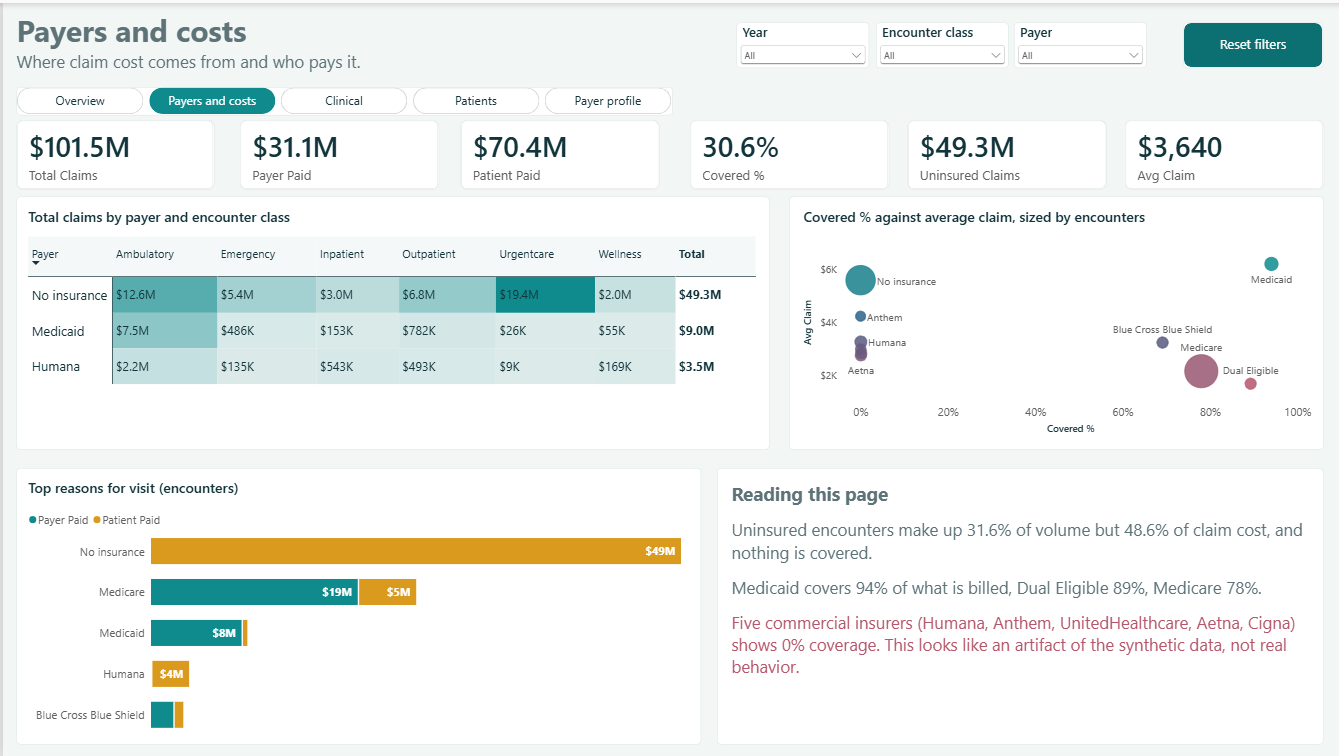

Layout of this report page (visuals, bound fields, positions):
{"tool":"powerbi","page":{"name":"Payers and costs","canvas":[1920,1080],"ordinal":1},"visuals":[{"type":"cardVisual","fields":{"Data":["_Measures.Total Claims"]},"box":[19.1,167,283.9,100],"z":0},{"type":"cardVisual","fields":{"Data":["_Measures.Payer Paid"]},"box":[338.8,167,285,100],"z":1000},{"type":"cardVisual","fields":{"Data":["_Measures.Patient Paid"]},"box":[656.1,167,285,100],"z":2000},{"type":"cardVisual","fields":{"Data":["_Measures.Covered %"]},"box":[983,167,285,100],"z":3000},{"type":"cardVisual","fields":{"Data":["_Measures.Uninsured Claims"]},"box":[1295.6,167,285,100],"z":4000},{"type":"cardVisual","fields":{"Data":["_Measures.Avg Claim (card)"]},"box":[1608.1,167,285,100],"z":5000},{"type":"pivotTable","title":"Total claims by payer and encounter class","fields":{"Columns":["FactEncounters.EncounterClass"],"Rows":["DimPayer.PayerName"],"Values":["_Measures.Claims Label"]},"box":[19.1,276.8,1078.4,362.7],"z":6000},{"type":"scatterChart","title":"Covered % against average claim, sized by encounters","fields":{"Category":["DimPayer.PayerName"],"Size":["_Measures.Total Encounters"],"X":["_Measures.Covered %"],"Y":["_Measures.Avg Claim"]},"box":[1126.2,276.8,765.9,362.7],"z":7000},{"type":"textbox","title":"Encounters by patient age","box":[1023.6,665.7,868.5,396.1],"z":8000},{"type":"barChart","title":"Top reasons for visit (encounters)","fields":{"Category":["DimPayer.PayerName"],"Y":["_Measures.Payer Paid","_Measures.Patient Paid"]},"box":[19.1,665.7,980.6,396.1],"z":9000},{"type":"textbox","box":[19.1,0,1872.9,119.3],"z":10000},{"type":"pageNavigator","box":[19.1,119.3,940.1,40.6],"z":14000},{"type":"slicer","title":"Year","fields":{"Values":["DimDate.Year"]},"box":[1049.8,28.6,190,65],"z":14001},{"type":"slicer","title":"Year","fields":{"Values":["DimPayer.PayerName"]},"box":[1448.3,28.6,190,65],"z":14002},{"type":"slicer","title":"Year","fields":{"Values":["FactEncounters.EncounterClass"]},"box":[1250.2,28.6,190,65],"z":14003},{"type":"actionButton","box":[1691.6,28.6,200,65],"z":14004}]}

Visuals, with their boxes in screenshot pixels (x1, y1, x2, y2), scaled from the page's 1920x1080 canvas onto the 1339x756 screenshot:
cardVisual - _Measures.Total Claims: [left=13, top=117, right=211, bottom=187]
cardVisual - _Measures.Payer Paid: [left=236, top=117, right=435, bottom=187]
cardVisual - _Measures.Patient Paid: [left=458, top=117, right=656, bottom=187]
cardVisual - _Measures.Covered %: [left=686, top=117, right=884, bottom=187]
cardVisual - _Measures.Uninsured Claims: [left=904, top=117, right=1102, bottom=187]
cardVisual - _Measures.Avg Claim (card): [left=1121, top=117, right=1320, bottom=187]
"Total claims by payer and encounter class" pivotTable: [left=13, top=194, right=765, bottom=448]
"Covered % against average claim, sized by encounters" scatterChart: [left=785, top=194, right=1320, bottom=448]
"Encounters by patient age" textbox: [left=714, top=466, right=1320, bottom=743]
"Top reasons for visit (encounters)" barChart: [left=13, top=466, right=697, bottom=743]
textbox: [left=13, top=0, right=1319, bottom=84]
pageNavigator: [left=13, top=84, right=669, bottom=112]
"Year" slicer: [left=732, top=20, right=865, bottom=66]
"Year" slicer: [left=1010, top=20, right=1143, bottom=66]
"Year" slicer: [left=872, top=20, right=1004, bottom=66]
actionButton: [left=1180, top=20, right=1319, bottom=66]
